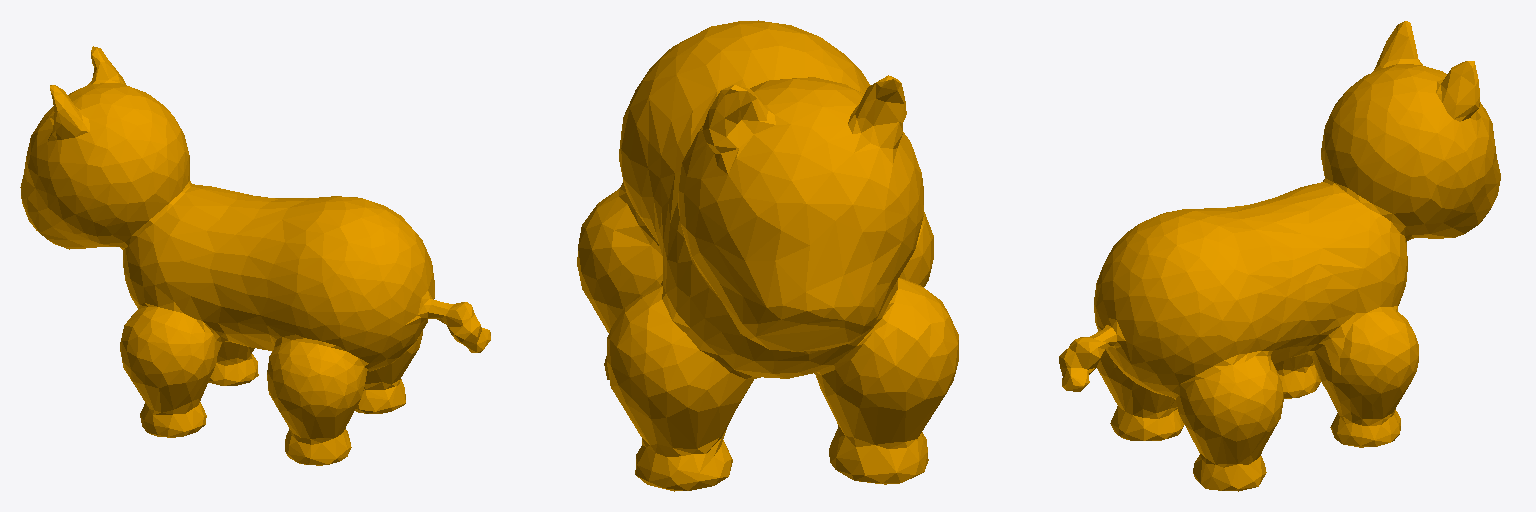
URDF robot description (35u04w7u):
<?xml version='1.0'?>

<robot name="35u04w7u">
    <static>false</static>
    <link name="link">
        <inertial>
            <mass value="0.06080729707590092"/>
            <inertia ixx="5.965990078236312e-05" ixy="2.1281733452252653e-05" ixz="9.387391074063868e-06"
                     iyy="4.729499717721646e-05" iyz="-1.263085229560887e-05" izz="6.455730049320879e-05"/>
        </inertial>
        <collision name="collision">
            <geometry>
                <mesh filename="package://miscnet/train/35u04w7u/collision_model_vhacd.obj"/>
            </geometry>
        </collision>
        <visual name="visual">
            <geometry>
                <mesh filename="package://miscnet/train/35u04w7u/visual_model.obj"/>
            </geometry>
        </visual>
    </link>
</robot>

--- Render facts (derived) ---
Views: 3 orthographic renders of the robot side by side, from view 1: azimuth 30°, elevation 25°; view 2: azimuth 150°, elevation 25°; view 3: azimuth 270°, elevation 25°.
Model 35u04w7u with 1 links and 0 joints (none), rooted at link, posed every joint at zero.
Visible links, largest first — view 1: link; view 2: link; view 3: link.
Boxes of the visible links, x1,y1,x2,y2 form: link: (20, 46, 490, 465); link: (577, 20, 958, 491); link: (1059, 21, 1500, 491).
Bounding box of the posed robot: 0.0917 × 0.1116 × 0.0935 m (x, y, z).
1 mesh visuals loaded from 1 distinct referenced files (1 OBJ).
